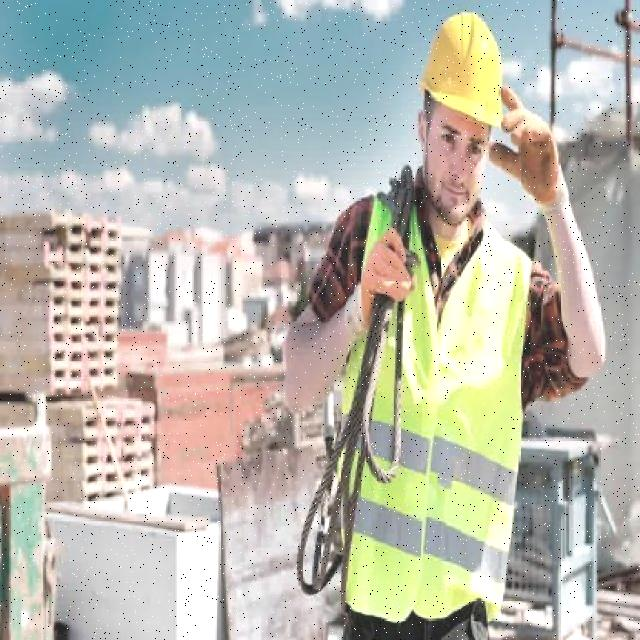Gloves: (488, 84, 570, 213), (342, 226, 416, 342)
Helmet: (418, 8, 506, 130)
Mask: (336, 187, 535, 630)
